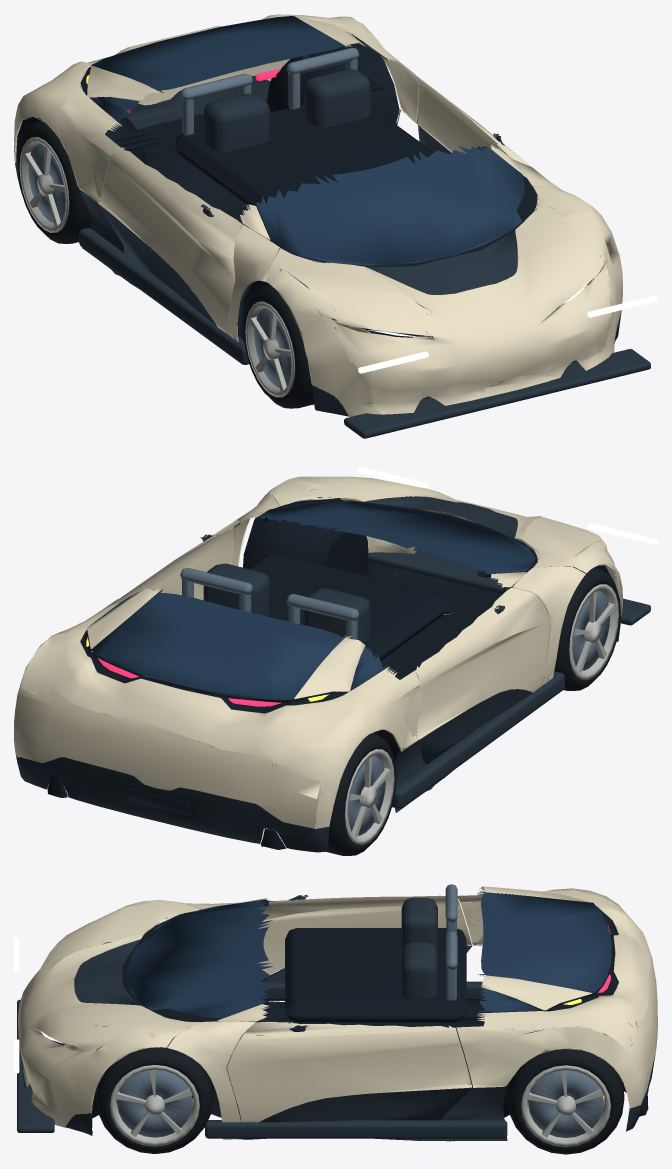
File: solis-lod1.glb
3 views of the same model, one above another, from view 1: azimuth 30°, elevation 25°; view 2: azimuth 150°, elevation 25°; view 3: azimuth 270°, elevation 25° (orthographic). The views are drawn at different scales.
Visible parts, largest first — view 1: Body, WheelFrontR, WheelRearR; view 2: Body, WheelRearR, WheelFrontR; view 3: Body, WheelFrontL, WheelRearL.
Boxes of the visible parts, x1,y1,x2,y2 form: Body: [14, 14, 657, 438]; WheelFrontR: [243, 284, 314, 408]; WheelRearR: [17, 120, 91, 243]; Body: [14, 467, 657, 852]; WheelRearR: [326, 732, 396, 855]; WheelFrontR: [554, 567, 620, 690]; Body: [14, 884, 657, 1141]; WheelFrontL: [96, 1045, 212, 1153]; WheelRearL: [508, 1048, 624, 1154].
Bounding box in the file's own units: 2.29 × 1.2 × 4.25.
